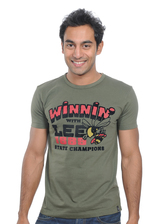clothoes: (29, 70, 141, 216)
